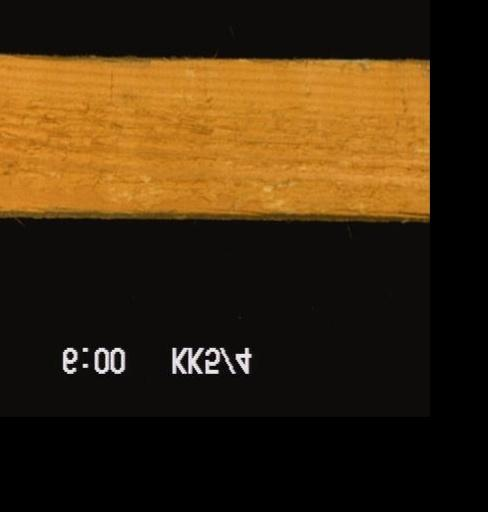split: (328, 203, 427, 218), (185, 203, 272, 216)
